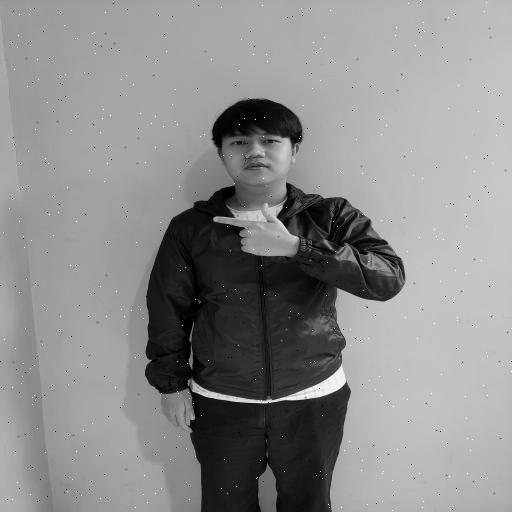next: (209, 202, 299, 268)
